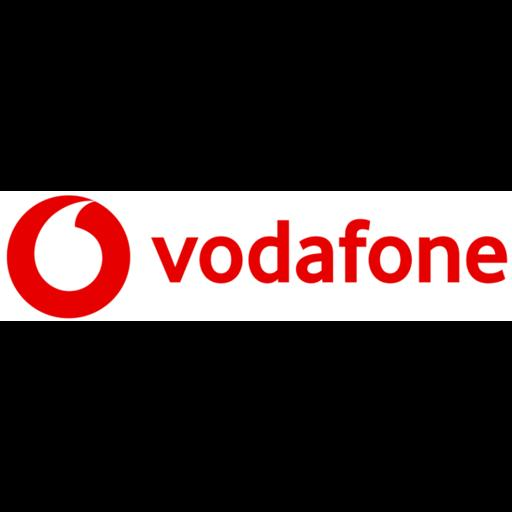Vodafone: (0, 191, 512, 321)
